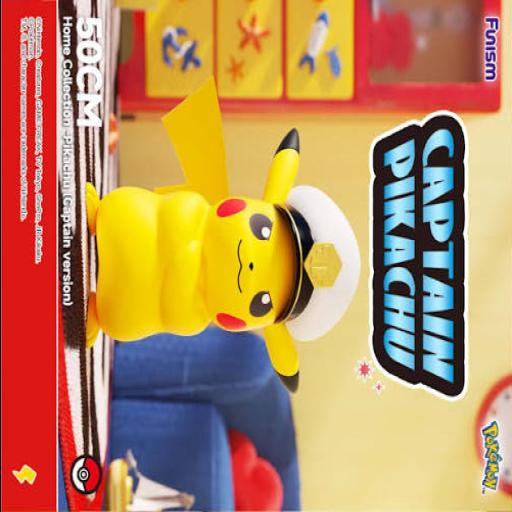Pikachu: (84, 128, 314, 394)
